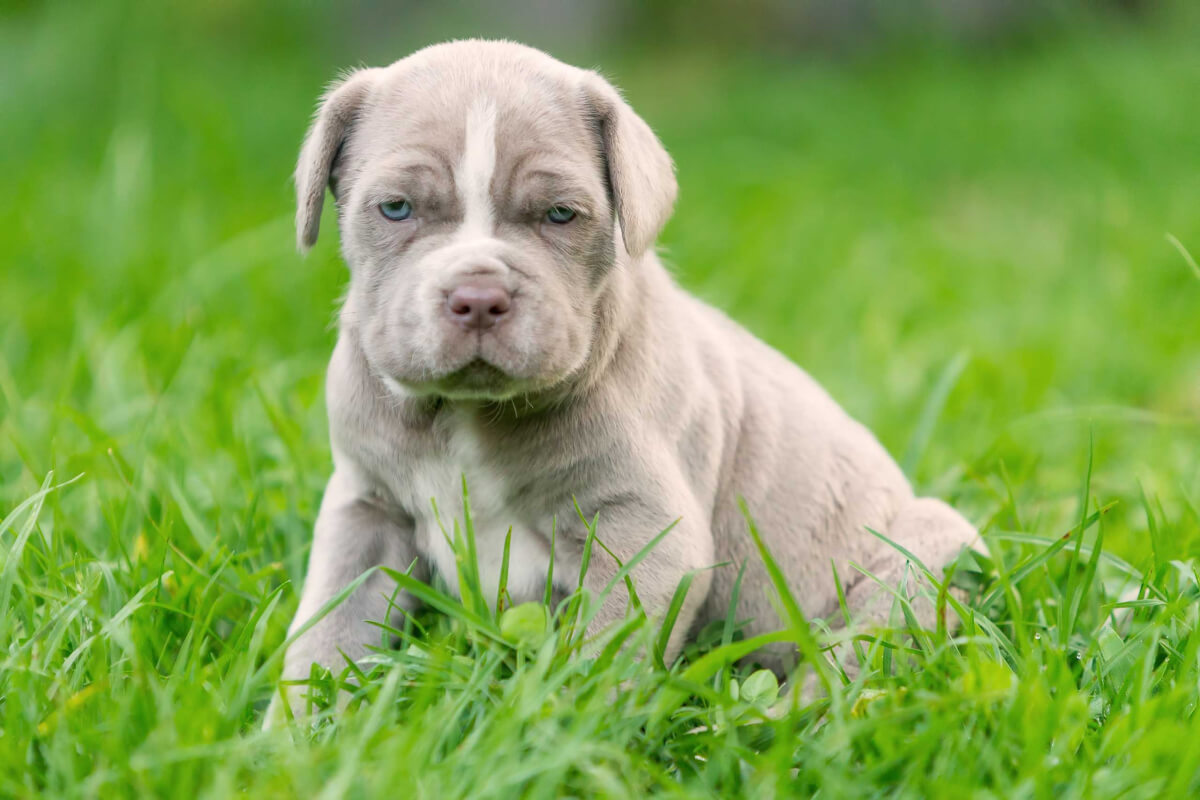neapolitan_mastiff: (263, 39, 1000, 733)
